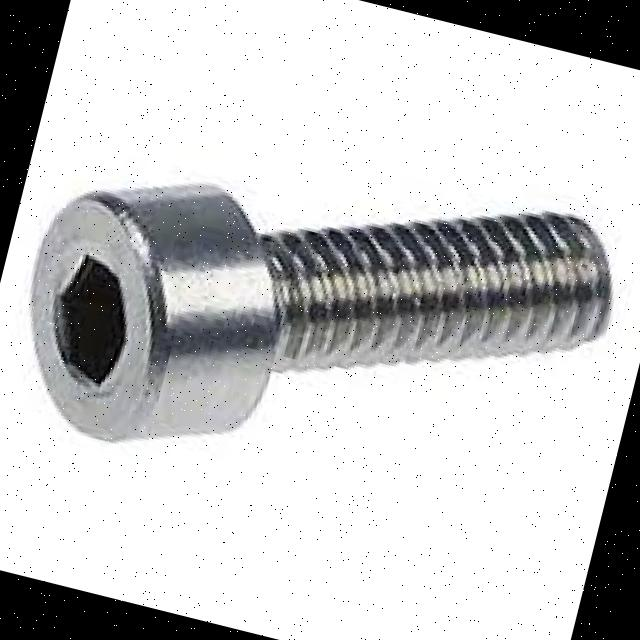Hex Socket Allen: (0, 183, 192, 449)
